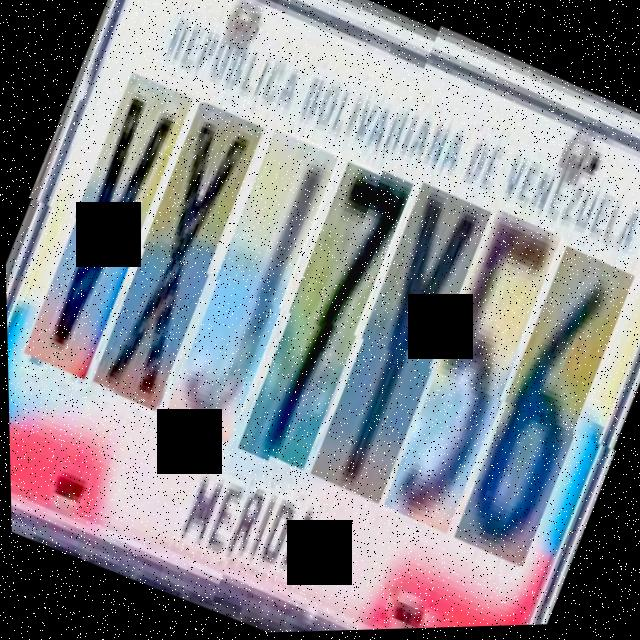5: (374, 214, 568, 538)
6: (444, 250, 640, 572)
7: (230, 160, 420, 475)
J: (157, 129, 347, 443)
V: (16, 72, 200, 380)
X: (84, 102, 271, 411)
Y: (300, 187, 498, 509)
